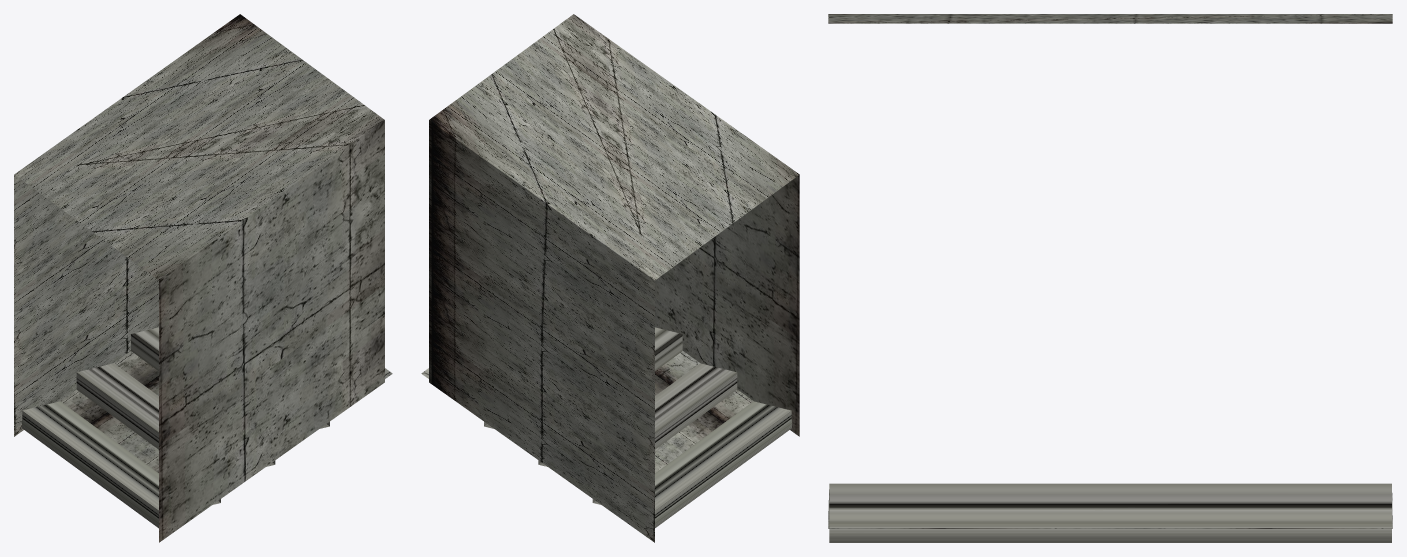
The model's file is escalerasCortas.glb.
The picture shows the model from 3 angles, left to right: view 1: azimuth 30°, elevation 25°; view 2: azimuth 150°, elevation 25°; view 3: azimuth 270°, elevation 25°; orthographic projection. The views are drawn at different scales.
Parts seen in each view (by area): view 1: Cube.002, Cube.006; view 2: Cube.002, Cube.006; view 3: Cube.006, Cube.002.
Part boxes in pixels (x1=…): Cube.002: x1=14, y1=14, x2=384, y2=542; Cube.006: x1=22, y1=327, x2=392, y2=528; Cube.002: x1=429, y1=14, x2=799, y2=542; Cube.006: x1=421, y1=327, x2=791, y2=527; Cube.006: x1=828, y1=483, x2=1392, y2=542; Cube.002: x1=828, y1=14, x2=1392, y2=23.
Bounding box in the file's own units: 4.66 × 7.01 × 5.
1 material, 1 textured.
